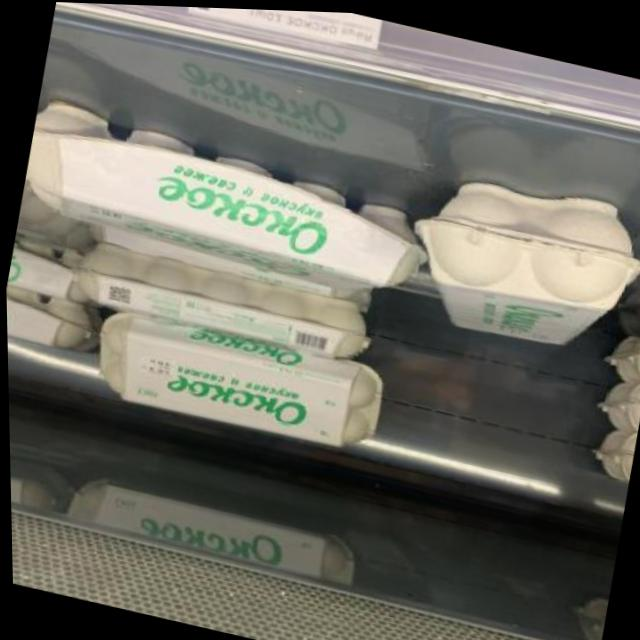Egg: (16, 101, 431, 304), (72, 300, 394, 461)
